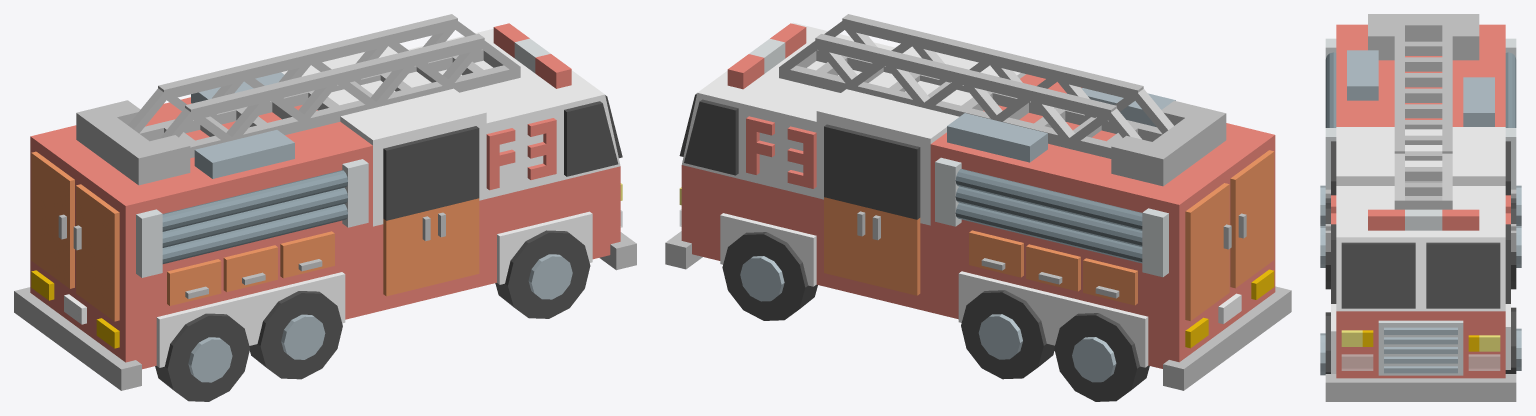
3 renders of one model, left to right at view 1: azimuth 30°, elevation 25°; view 2: azimuth 150°, elevation 25°; view 3: azimuth 270°, elevation 25°, orthographic. The views are drawn at different scales.
Parts seen in each view (by area): view 1: group519370239, group185491775, group1945329526, group175345217, group1738684917, group1826006281, group82081570, group139840733, group1681719414, group1892506739, group938532286, group146818588 (+34 smaller); view 2: group519370239, group185491775, group1945329526, group175345217, group1949654852, group2066065393, group1892506739, group1681719414, group139840733, group82081570, group1884237432, group1267943645 (+34 smaller); view 3: group1945329526, group175345217, group519370239, group185491775, group1160962185, group296302351, group1529591549, group898051558, group90837543, group1646953769, group1987148186, group82081570 (+52 smaller).
Part boxes in pixels (x1=…): group519370239: x1=30, y1=97, x2=372, y2=369; group185491775: x1=373, y1=166, x2=620, y2=312; group1945329526: x1=408, y1=29, x2=620, y2=198; group175345217: x1=281, y1=46, x2=486, y2=226; group1738684917: x1=383, y1=126, x2=479, y2=220; group1826006281: x1=383, y1=198, x2=479, y2=296; group82081570: x1=158, y1=14, x2=457, y2=100; group139840733: x1=76, y1=184, x2=119, y2=321; group1681719414: x1=31, y1=151, x2=74, y2=288; group1892506739: x1=185, y1=33, x2=484, y2=116; group938532286: x1=156, y1=272, x2=345, y2=367; group146818588: x1=495, y1=230, x2=590, y2=318; group519370239: x1=930, y1=74, x2=1275, y2=368; group185491775: x1=681, y1=165, x2=930, y2=312; group1945329526: x1=682, y1=22, x2=894, y2=197; group175345217: x1=816, y1=46, x2=1025, y2=225; group1949654852: x1=824, y1=124, x2=920, y2=219; group2066065393: x1=824, y1=197, x2=920, y2=295; group1892506739: x1=842, y1=14, x2=1143, y2=101; group1681719414: x1=1185, y1=183, x2=1229, y2=320; group139840733: x1=1230, y1=150, x2=1274, y2=288; group82081570: x1=815, y1=34, x2=1116, y2=117; group1884237432: x1=958, y1=271, x2=1148, y2=367; group1267943645: x1=722, y1=232, x2=817, y2=320; group1945329526: x1=1336, y1=186, x2=1505, y2=311; group175345217: x1=1336, y1=127, x2=1505, y2=185; group519370239: x1=1336, y1=24, x2=1505, y2=126; group185491775: x1=1336, y1=311, x2=1505, y2=378; group1160962185: x1=1426, y1=242, x2=1500, y2=308; group296302351: x1=1341, y1=242, x2=1415, y2=308; group1529591549: x1=1325, y1=374, x2=1516, y2=401; group898051558: x1=1378, y1=320, x2=1463, y2=375; group90837543: x1=1368, y1=14, x2=1479, y2=41; group1646953769: x1=1347, y1=50, x2=1378, y2=100; group1987148186: x1=1463, y1=77, x2=1494, y2=126; group82081570: x1=1442, y1=24, x2=1452, y2=153.
Size of the model in its own units: 100 by 48 by 38.
